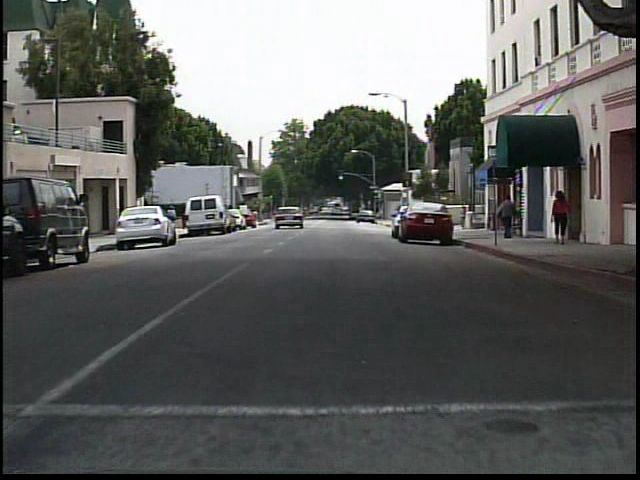person: (548, 188, 573, 247), (495, 192, 521, 240), (163, 201, 181, 235)
